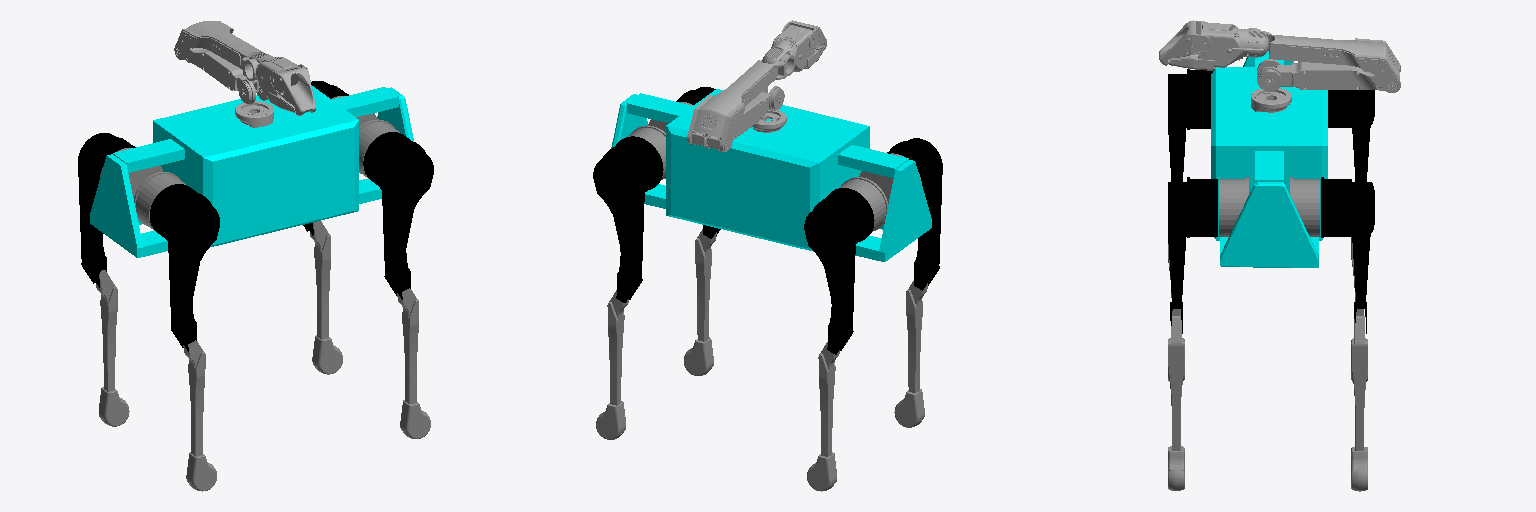
robot.urdf — ghost:
<?xml version="1.0" encoding="utf-8"?>
<robot name="ghost">
  <material name="black">
    <color rgba="0.0 0.0 0.0 1.0"/>
  </material>
  <material name="cyan">
    <color rgba="0.0 1.0 1.0 1.0"/>
  </material>
  <material name="grey">
    <color rgba="0.6 0.6 0.6 1.0"/>
  </material>
  <material name="silver">
    <color rgba="0.7 0.7 0.7 1.0"/>
  </material>

  <link name="trunk">
    <visual>
      <origin rpy="0 0 -1.5708" xyz="0 0 0"/>
      <geometry>
        <mesh filename="ghost/body.obj" scale="1 1 1"/>
      </geometry>
      <material name="cyan"/>
    </visual>
    <!-- <collision>
      <origin rpy="0 0 0" xyz="0 0 0"/>
      <geometry>
        <box size="0.267 0.194 0.114"/>
      </geometry>
    </collision> -->
    <collision>
      <origin rpy="0 0 -1.5708" xyz="0 0 0"/>
      <geometry>
        <mesh filename="ghost/body.obj" scale="1 1 1"/>
      </geometry>
    </collision>
    <inertial>
      <origin rpy="0 0 0" xyz="0 0 0"/>
      <mass value="13.715"/>
      <inertia ixx="0.22" ixy="0" ixz="0" iyy="0.431" iyz="0" izz="0.565"/>
    </inertial>
  </link>

  <!-- FR HIP -->
  <link name="FR_hip">
    <!-- <contact>
      <lateral_friction value="1"/>
    </contact> -->
    <inertial>
      <origin rpy="0 0 0" xyz="0.02 0 0"/>
      <mass value="1.095"/>
      <inertia ixx="0.002" ixy="0" ixz="0" iyy=".002" iyz="0" izz=".001"/>
    </inertial>

    <visual>
      <origin rpy="0 0 0" xyz="0 0 0"/>
      <geometry>
        <mesh filename="ghost/hip.obj" scale="1 1 1"/>
      </geometry>
      <material name="grey"/>
    </visual>

    <collision>
      <origin rpy="0 0 0" xyz="0 0 0"/>
      <geometry>
        <mesh filename="ghost/hip.obj" scale="1 1 1"/>
      </geometry>
    </collision>
  </link>

  <joint name="FR_hip_joint" type="continuous">
    <axis xyz="1 0 0"/>
    <parent link="trunk"/>
    <child link="FR_hip"/>
    <origin rpy="1.57079 0 3.14159" xyz="0.22 -0.06 0.0"/>
    <limit effort="100" velocity="100"/>
    <joint_properties damping=".0" friction=".0"/>
  </joint>

  <!-- FR UPPER LEG -->
  <link name="FR_upper">
    <!-- <contact>
        <lateral_friction value="1"/>
    </contact> -->
    <inertial>
      <origin rpy="0 0 0" xyz="0 -0.04 -0.04"/>
      <mass value="1.527"/>
      <inertia ixx="0.015" ixy="0" ixz="0" iyy="0.007" iyz="0" izz="0.01"/>
    </inertial>
    <visual>
      <origin rpy="0 0 0" xyz="0 0 0"/>
      <geometry>
        <mesh filename="ghost/upper_leg_mirror.obj" scale="1 1 1"/>
      </geometry>
      <material name="black"/>
    </visual>

    <collision>
      <origin rpy="0 0 0" xyz="0 0 0"/>
      <geometry>
        <mesh filename="ghost/upper_leg_mirror.obj" scale="1 1 1"/>
      </geometry>
    </collision>
  </link>

  <joint name="FR_upper_joint" type="continuous">
    <axis xyz="0 1 0"/>
    <parent link="FR_hip"/>
    <child link="FR_upper"/>
    <origin rpy="1.57079 0 1.57079" xyz="-0.0015 0 -0.095"/>
    <limit effort="100" velocity="100"/>
    <joint_properties damping=".0" friction=".0"/>
  </joint>

  <!-- FR LOWER LEG -->
  <link name="FR_lower">
    <!-- <contact>
        <lateral_friction value="1"/>
    </contact> -->
    <inertial>
      <origin rpy="0 0 0" xyz="0 -0.16 -0.02"/>
      <mass value="0.241"/>
      <inertia ixx="0.002" ixy="0" ixz="0" iyy="0.002" iyz="0" izz="0.002"/>
    </inertial>
    <visual>
      <origin rpy="1.57079 1.57079 0" xyz="0 0.0 0"/>
      <geometry>
        <mesh filename="ghost/lower_leg.obj" scale="1 1 1"/>
      </geometry>
      <material name="grey"/>
    </visual>

    <collision>
      <origin rpy="1.57079 1.57079 0" xyz="0 0.0 0"/>
      <geometry>
        <mesh filename="ghost/lower_leg.obj" scale="1 1 1"/>
      </geometry>
    </collision>
  </link>

  <joint name="FR_lower_joint" type="continuous">
    <axis xyz="0 1 0"/>
    <parent link="FR_upper"/>
    <child link="FR_lower"/>
    <origin rpy="0 0 0" xyz="-0.25 -0.005 0.006"/>
    <limit effort="100" velocity="100"/>
    <joint_properties damping=".0" friction=".0"/>
  </joint>

  <!-- FR TOE -->
  <link name="FR_toe">
    <!-- <contact>
      <friction_anchor/>
      <stiffness value="30000.0"/>
      <damping value="1000.0"/>
      <spinning_friction value="0.1"/>
      <lateral_friction value="1.0"/>
    </contact> -->
    <visual>
      <origin rpy="0 0 0" xyz="0 0 0"/>
      <geometry>
        <sphere radius="0.0"/>
      </geometry>
      <material name="black"/>
    </visual>
    <collision>
      <origin rpy="0 0 0" xyz="0 0 0"/>
      <geometry>
        <sphere radius="0.03"/>
      </geometry>
    </collision>
    <inertial>
      <mass value="0.1"/>
      <inertia ixx="0.000025" ixy="0" ixz="0" iyy="0.000025" iyz="0" izz="0.000025"/>
    </inertial>
  </link>

  <joint name="FR_toe_fixed" type="fixed">
    <parent link="FR_lower"/>
    <child link="FR_toe"/>
    <origin xyz="-0.25 0 -0.02"/>
    <dynamics damping="0.0" friction="0.0"/>
  </joint>

  <!-- FL HIP -->
  <link name="FL_hip">
    <!-- <contact>
        <lateral_friction value="1"/>
    </contact> -->
    <inertial>
      <origin rpy="0 0 0" xyz="-.02 0 0"/>
      <mass value="1.095"/>
      <inertia ixx="0.002" ixy="0" ixz="0" iyy="0.002" iyz="0" izz="0.001"/>
    </inertial>
    <visual>
      <origin rpy="0 0 0" xyz="0 0 0"/>
      <geometry>
        <mesh filename="ghost/hip.obj" scale="1 1 1"/>
      </geometry>
      <material name="grey">
      </material>
    </visual>

    <collision>
      <origin rpy="0 0 0" xyz="0 0 0"/>
      <geometry>
        <mesh filename="ghost/hip.obj" scale="1 1 1"/>
      </geometry>
    </collision>
  </link>

  <joint name="FL_hip_joint" type="continuous">
    <axis xyz="1 0 0"/>
    <parent link="trunk"/>
    <child link="FL_hip"/>
    <origin rpy="-1.57079 0 3.14159" xyz="0.22 0.06 0.0"/>
    <limit effort="100" velocity="100"/>
    <joint_properties damping=".0" friction=".0"/>
  </joint>

  <!-- FL UPPER LEG -->
  <link name="FL_upper">
    <!-- <contact>
        <lateral_friction value="1"/>
    </contact> -->
    <inertial>
      <origin rpy="0 0 0" xyz="0 -0.04 -0.04"/>
      <mass value="1.527"/>
      <inertia ixx="0.016" ixy="0" ixz="0" iyy="0.007" iyz="0" izz="0.011"/>
    </inertial>
    <visual>
      <origin rpy="0 0 0" xyz="0 0 0"/>
      <geometry>

        <mesh filename="ghost/upper_leg.obj" scale="1 1 1"/>
      </geometry>
      <material name="black">
      </material>
    </visual>

    <collision>
      <origin rpy="0 0 0" xyz="0 0 0"/>
      <geometry>
        <mesh filename="ghost/upper_leg.obj" scale="1 1 1"/>
      </geometry>
    </collision>
  </link>


  <joint name="FL_upper_joint" type="continuous">
    <axis xyz="0 0 -1"/>
    <parent link="FL_hip"/>
    <child link="FL_upper"/>
    <origin rpy="0 0 3.14159" xyz="-0.0015 0 -0.101"/>
    <limit effort="100" velocity="100"/>
    <joint_properties damping=".0" friction=".0"/>
  </joint>

  <!-- FL LOWER LEG -->
  <link name="FL_lower">
    <!-- <contact>
        <lateral_friction value="1"/>
    </contact> -->
    <inertial>
      <origin rpy="0 0 0" xyz="0 -0.16 -0.02"/>
      <mass value="0.241"/>
      <inertia ixx="0.002" ixy="0" ixz="0" iyy="0.002" iyz="0" izz="0.002"/>
    </inertial>
    <visual>
      <origin rpy="0 0 0" xyz="0 0 0"/>
      <geometry>
        <mesh filename="ghost/lower_leg.obj" scale="1 1 1"/>
      </geometry>
      <material name="grey">
      </material>
    </visual>

    <collision>
      <origin rpy="0 0 0" xyz="0 0 0"/>
      <geometry>
        <mesh filename="ghost/lower_leg.obj" scale="1 1 1"/>
      </geometry>
    </collision>
  </link>

  <joint name="FL_lower_joint" type="continuous">
    <axis xyz="0 0 -1"/>
    <parent link="FL_upper"/>
    <child link="FL_lower"/>
    <origin rpy="0 0 0" xyz="-0.005 -0.25 0.006"/>
    <limit effort="100" velocity="100"/>
    <joint_properties damping=".0" friction=".0"/>
  </joint>

  <!-- FL TOE -->
  <link name="FL_toe">
    <!-- <contact>
      <friction_anchor/>
      <stiffness value="30000.0"/>
      <damping value="1000.0"/>
      <spinning_friction value="0.1"/>
      <lateral_friction value="1.0"/>
    </contact> -->
    <visual>
      <origin rpy="0 0 0" xyz="0 0 0"/>
      <geometry>
        <sphere radius="0.0"/>
      </geometry>
      <material name="black"/>
    </visual>
    <collision>
      <origin rpy="0 0 0" xyz="0 0 0"/>
      <geometry>
        <sphere radius="0.03"/>
      </geometry>
    </collision>
    <inertial>
      <mass value="0.1"/>
      <inertia ixx="0.000025" ixy="0" ixz="0" iyy="0.000025" iyz="0" izz="0.000025"/>
    </inertial>
  </link>

  <joint name="FL_toe_fixed" type="fixed">
    <parent link="FL_lower"/>
    <child link="FL_toe"/>
    <origin xyz="0.02 -0.25 0"/>
    <dynamics damping="0.0" friction="0.0"/>
  </joint>

  <!-- RR HIP -->
  <link name="RR_hip">
    <!-- <contact>
        <lateral_friction value="1"/>
    </contact> -->
    <inertial>
      <origin rpy="0 0 0" xyz="0.02 0 0"/>
      <mass value="1.095"/>
      <inertia ixx="0.002" ixy="0" ixz="0" iyy="0.002" iyz="0" izz="0.001"/>
    </inertial>

    <visual>
      <origin rpy="0 0 0" xyz="0 0 0"/>
      <geometry>
        <mesh filename="ghost/hip.obj" scale="1 1 1"/>
      </geometry>
      <material name="grey"/>
    </visual>

    <collision>
      <origin rpy="0 0 0" xyz="0 0 0"/>
      <geometry>
        <mesh filename="ghost/hip.obj" scale="1 1 1"/>
      </geometry>
    </collision>
  </link>

  <joint name="RR_hip_joint" type="continuous">
    <axis xyz="1 0 0"/>
    <parent link="trunk"/>
    <child link="RR_hip"/>
    <origin rpy="1.57079 0 3.14159" xyz="-0.22 -0.06 0.0"/>
    <limit effort="100" velocity="100"/>
    <joint_properties damping=".0" friction=".0"/>
  </joint>

  <!-- RR UPPER LEG -->
  <link name="RR_upper">
    <!-- <contact>
        <lateral_friction value="1"/>
    </contact> -->
    <inertial>
      <origin rpy="0 0 0" xyz="0 -0.04 -0.04"/>
      <mass value="1.527"/>
      <inertia ixx="0.016" ixy="0" ixz="0" iyy="0.007" iyz="0" izz="0.011"/>
    </inertial>
    <visual>
      <origin rpy="0 0 0" xyz="0 0 0"/>
      <geometry>
        <mesh filename="ghost/upper_leg_mirror.obj" scale="1 1 1"/>
      </geometry>
      <material name="black"/>
    </visual>

    <collision>
      <origin rpy="0 0 0" xyz="0 0 0"/>
      <geometry>
        <mesh filename="ghost/upper_leg_mirror.obj" scale="1 1 1"/>
      </geometry>
    </collision>
  </link>

  <joint name="RR_upper_joint" type="continuous">
    <axis xyz="0 1 0"/>
    <parent link="RR_hip"/>
    <child link="RR_upper"/>
    <origin rpy="1.57079 0 1.57079" xyz="-0.0015 0 -0.095"/>
    <limit effort="100" velocity="100"/>
    <joint_properties damping=".0" friction=".0"/>
  </joint>

  <!-- RR LOWER LEG -->
  <link name="RR_lower">
    <!-- <contact>
        <lateral_friction value="1"/>
    </contact> -->
    <inertial>
      <origin rpy="0 0 0" xyz="0 -0.16 -0.02"/>
      <mass value="0.241"/>
      <inertia ixx="0.002" ixy="0" ixz="0" iyy="0.002" iyz="0" izz="0.002"/>
    </inertial>
    <visual>
      <origin rpy="1.57079 1.57079 0" xyz="0 0 0"/>
      <geometry>
        <mesh filename="ghost/lower_leg.obj" scale="1 1 1"/>
      </geometry>
      <material name="grey"/>
    </visual>

    <collision>
      <origin rpy="1.57079 1.57079 0" xyz="0 0 0"/>
      <geometry>
        <mesh filename="ghost/lower_leg.obj" scale="1 1 1"/>
      </geometry>
    </collision>
  </link>

  <joint name="RR_lower_joint" type="continuous">
    <axis xyz="0 1 0"/>
    <parent link="RR_upper"/>
    <child link="RR_lower"/>
    <origin rpy="0 0 0" xyz="-0.25 -0.005 0.006"/>
    <limit effort="100" lower="-2.69653369433" upper="-0.916297857297" velocity="100"/>
    <joint_properties damping=".0" friction=".0"/>
  </joint>

  <!-- RR TOE -->
  <link name="RR_toe">
    <!-- <contact>
      <friction_anchor/>
      <stiffness value="30000.0"/>
      <damping value="1000.0"/>
      <spinning_friction value="0.1"/>
      <lateral_friction value="1.0"/>
    </contact> -->
    <visual>
      <origin rpy="0 0 0" xyz="0 0 0"/>
      <geometry>
        <sphere radius="0.0"/>
      </geometry>
      <material name="black"/>
    </visual>
    <collision>
      <origin rpy="0 0 0" xyz="0 0 0"/>
      <geometry>
        <sphere radius="0.03"/>
      </geometry>
    </collision>
    <inertial>
      <mass value="0.1"/>
      <inertia ixx="0.000025" ixy="0" ixz="0" iyy="0.000025" iyz="0" izz="0.000025"/>
    </inertial>
  </link>

  <joint name="RR_toe_fixed" type="fixed">
    <parent link="RR_lower"/>
    <child link="RR_toe"/>
    <origin xyz="-0.25 0 -0.02"/>
    <dynamics damping="0.0" friction="0.0"/>
  </joint>

  <!-- RL HIP -->
  <link name="RL_hip">
    <!-- <contact>
        <lateral_friction value="1"/>
    </contact> -->
    <inertial>
      <origin rpy="0 0 0" xyz="-.02 0 0"/>
      <mass value="1.095"/>
      <inertia ixx="0.002" ixy="0" ixz="0" iyy="0.002" iyz="0" izz="0.001"/>
    </inertial>
    <visual>
      <origin rpy="0 0 0" xyz="0 0 0"/>
      <geometry>
        <mesh filename="ghost/hip.obj" scale="1 1 1"/>
      </geometry>
      <material name="grey"/>
    </visual>

    <collision>
      <origin rpy="0 0 0" xyz="0 0 0"/>
      <geometry>
        <mesh filename="ghost/hip.obj" scale="1 1 1"/>
      </geometry>
    </collision>
  </link>

  <joint name="RL_hip_joint" type="continuous">
    <axis xyz="1 0 0"/>
    <parent link="trunk"/>
    <child link="RL_hip"/>
    <origin rpy="-1.57079 0 3.14159" xyz="-0.22 0.06 0.0"/>
    <limit effort="100" velocity="100"/>
    <joint_properties damping=".0" friction=".0"/>
  </joint>

  <!-- RL UPPER LEG -->
  <link name="RL_upper">
    <!-- <contact>
        <lateral_friction value="1"/>
    </contact> -->
    <inertial>
      <origin rpy="0 0 0" xyz="0 -0.04 -0.04"/>
      <mass value="1.527"/>
      <inertia ixx="0.016" ixy="0" ixz="0" iyy="0.007" iyz="0" izz="0.011"/>
    </inertial>
    <visual>
      <origin rpy="0 0 0" xyz="0 0 0"/>
      <geometry>
        <mesh filename="ghost/upper_leg.obj" scale="1 1 1"/>
      </geometry>
      <material name="black"/>
    </visual>

    <collision>
      <origin rpy="0 0 0" xyz="0 0 0"/>
      <geometry>
        <mesh filename="ghost/upper_leg.obj" scale="1 1 1"/>
      </geometry>
    </collision>
  </link>

  <joint name="RL_upper_joint" type="continuous">
    <axis xyz="0 0 -1"/>
    <parent link="RL_hip"/>
    <child link="RL_upper"/>
    <origin rpy="0 0 3.14159" xyz="-0.0015 0 -0.101"/>
    <limit effort="100" velocity="100"/>
    <joint_properties damping=".0" friction=".0"/>
  </joint>

  <!-- RL LOWER LEG -->
  <link name="RL_lower">
    <!-- <contact>
        <lateral_friction value="1"/>
    </contact> -->
    <inertial>
      <origin rpy="0 0 0" xyz="0 -0.16 -0.02"/>
      <mass value="0.241"/>
      <inertia ixx="0.002" ixy="0" ixz="0" iyy="0.002" iyz="0" izz="0.002"/>
    </inertial>
    <visual>
      <origin rpy="0 0 0" xyz="0 0 0"/>
      <geometry>
        <mesh filename="ghost/lower_leg.obj" scale="1 1 1"/>
      </geometry>
      <material name="grey"/>
    </visual>

    <collision>
      <origin rpy="0 0 0" xyz="0 0 0"/>
      <geometry>
        <mesh filename="ghost/lower_leg.obj" scale="1 1 1"/>
      </geometry>
    </collision>
  </link>

  <joint name="RL_lower_joint" type="continuous">
    <axis xyz="0 0 -1"/>
    <parent link="RL_upper"/>
    <child link="RL_lower"/>
    <origin rpy="0 0 0" xyz="-0.005 -0.25 0.006"/>
    <limit effort="100" velocity="100"/>
    <joint_properties damping=".0" friction=".0"/>
  </joint>

  <!-- RL TOE -->
  <link name="RL_toe">
    <!-- <contact>
      <friction_anchor/>
      <stiffness value="30000.0"/>
      <damping value="1000.0"/>
      <spinning_friction value="0.1"/>
      <lateral_friction value="1.0"/>
    </contact> -->
    <visual>
      <origin rpy="0 0 0" xyz="0 0 0"/>
      <geometry>
        <sphere radius="0.0"/>
      </geometry>
      <material name="black"/>
    </visual>
    <collision>
      <origin rpy="0 0 0" xyz="0 0 0"/>
      <geometry>
        <sphere radius="0.03"/>
      </geometry>
    </collision>
    <inertial>
      <mass value="0.1"/>
      <inertia ixx="0.000025" ixy="0" ixz="0" iyy="0.000025" iyz="0" izz="0.000025"/>
    </inertial>
  </link>

  <joint name="RL_toe_fixed" type="fixed">
    <parent link="RL_lower"/>
    <child link="RL_toe"/>
    <origin xyz="0.02 -0.25 0"/>
    <dynamics damping="0.0" friction="0.0"/>
  </joint>

  <!-- Arm -->
  <link name="arm_base_link">
    <inertial>
      <origin rpy="0 0 0" xyz="0 0 0"/>
      <mass value="0.28897197894505794"/>
      <inertia ixx="0.000561" ixy="-0.0" ixz="-0.0" iyy="0.000389" iyz="0.0" izz="0.000553"/>
    </inertial>
    <visual>
      <origin rpy="0 0 0" xyz="0 0 0"/>
      <geometry>
        <mesh filename="spot_arm/base_link.stl" />
      </geometry>
      <material name="silver"/>
    </visual>
    <collision>
      <origin rpy="0 0 0" xyz="0 0 0"/>
      <geometry>
        <mesh filename="spot_arm/base_link.stl" />
      </geometry>
    </collision>
  </link>

  <joint name="arm_base" type="fixed">
    <origin rpy="0 0 0" xyz="0 0 0.1"/>
    <parent link="trunk"/>
    <child link="arm_base_link"/>
  </joint>

  <link name="arm_link_1">
    <inertial>
      <origin rpy="0 0 0" xyz="0 0 0"/>
      <mass value="0.6510136315044379"/>
      <inertia ixx="0.000498" ixy="0.0" ixz="-3e-06" iyy="0.000484" iyz="-0.0" izz="0.000407"/>
    </inertial>
    <visual>
      <origin rpy="0 0 0" xyz="0 0 0"/>
      <geometry>
        <mesh filename="spot_arm/bottom_v1_1.stl" />
      </geometry>
      <material name="silver"/>
    </visual>
    <collision>
      <origin rpy="0 0 0" xyz="0 0 0"/>
      <geometry>
        <mesh filename="spot_arm/bottom_v1_1.stl" />
      </geometry>
    </collision>
  </link>

  <joint name="motor_arm_0" type="continuous">
    <origin rpy="0 0 0" xyz="0.0 0.002 0.046"/>
    <parent link="arm_base_link"/>
    <child link="arm_link_1"/>
    <axis xyz="0.0 0.0 -1.0"/>
  </joint>

  <link name="arm_link_2">
    <inertial>
      <origin rpy="0 0 0" xyz="0 0 0"/>
      <mass value="1.935292940405524"/>
      <inertia ixx="0.001224" ixy="-0.0" ixz="-0.0" iyy="0.001136" iyz="-4.3e-05" izz="0.00072"/>
    </inertial>
    <visual>
      <origin rpy="0 0 0" xyz="0 0 0"/>
      <geometry>
        <mesh filename="spot_arm/Arm_1_v1_1.stl" />
      </geometry>
      <material name="silver"/>
    </visual>
    <collision>
      <origin rpy="0 0 0" xyz="0 0 0"/>
      <geometry>
        <mesh filename="spot_arm/Arm_1_v1_1.stl" />
      </geometry>
    </collision>
  </link>

  <joint name="motor_arm_1" type="continuous">
    <origin rpy="0 0 0" xyz="0.0 0.0 0.0"/>
    <parent link="arm_link_1"/>
    <child link="arm_link_2"/>
    <axis xyz="1.0 -0.0 -0.0"/>
  </joint>

  <link name="arm_link_3">
    <inertial>
      <origin rpy="0 0 0" xyz="0 0 0"/>
      <mass value="1.935292940405524"/>
      <inertia ixx="0.001224" ixy="-0.0" ixz="-0.0" iyy="0.001136" iyz="-4.3e-05" izz="0.00072"/>
    </inertial>
    <visual>
      <origin rpy="0 0 0" xyz="0 0 0"/>
      <geometry>
        <mesh filename="spot_arm/Arm_2_v1_1.stl" />
      </geometry>
      <material name="silver"/>
    </visual>
    <collision>
      <origin rpy="0 0 0" xyz="0 0 0"/>
      <geometry>
        <mesh filename="spot_arm/Arm_2_v1_1.stl" />
      </geometry>
    </collision>
  </link>

  <joint name="motor_arm_2" type="continuous">
    <origin rpy="0 0 0" xyz="-0.0015 0.21 0"/>
    <parent link="arm_link_2"/>
    <child link="arm_link_3"/>
    <axis xyz="-1.0 0.0 -0.0"/>
  </joint>

  <link name="arm_link_4">
    <inertial>
      <origin rpy="0 0 0" xyz="0 0 0"/>
      <mass value="1.935292940405524"/>
      <inertia ixx="0.001224" ixy="-0.0" ixz="-0.0" iyy="0.001136" iyz="-4.3e-05" izz="0.00072"/>
    </inertial>
    <visual>
      <origin rpy="0 0 0" xyz="0 0 0"/>
      <geometry>
        <mesh filename="spot_arm/neck_v1_1.stl" />
      </geometry>
      <material name="silver"/>
    </visual>
    <collision>
      <origin rpy="0 0 0" xyz="0 0 0"/>
      <geometry>
        <mesh filename="spot_arm/neck_v1_1.stl" />
      </geometry>
    </collision>
  </link>

  <joint name="motor_arm_3" type="continuous">
    <origin rpy="0 0 0" xyz="0 -0.24 0.06"/>
    <parent link="arm_link_3"/>
    <child link="arm_link_4"/>
    <axis xyz="1.0 0.0 0.0"/>
  </joint>

  <link name="arm_link_5">
    <inertial>
      <origin rpy="0 0 0" xyz="0 0 0"/>
      <mass value="0.28897197894505794"/>
      <inertia ixx="0.000561" ixy="-0.0" ixz="-0.0" iyy="0.000389" iyz="0.0" izz="0.000553"/>
    </inertial>
    <visual>
      <origin rpy="0 0 0" xyz="0 0 0"/>
      <geometry>
        <mesh filename="spot_arm/head_v1_1.stl" />
      </geometry>
      <material name="silver"/>
    </visual>
    <collision>
      <origin rpy="0 0 0" xyz="0 0 0"/>
      <geometry>
        <mesh filename="spot_arm/head_v1_1.stl" />
      </geometry>
    </collision>
  </link>

  <joint name="motor_arm_4" type="continuous">
    <origin rpy="0 0 0" xyz="0 -0.045 0"/>
    <parent link="arm_link_4"/>
    <child link="arm_link_5"/>
    <axis xyz="-0.0 -1.0 0.0"/>
  </joint>

  <link name="arm_gripper">
    <inertial>
      <origin rpy="0 0 0" xyz="0 0 0"/>
      <mass value="1.5302388632599126"/>
      <inertia ixx="4.6e-05" ixy="0.0" ixz="0.0" iyy="5e-05" iyz="0.0" izz="5.5e-05"/>
    </inertial>
    <visual>
      <origin rpy="0 0 0" xyz="0 0 0"/>
      <geometry>
        <mesh filename="spot_arm/gripper_v1_1.stl" />
      </geometry>
      <material name="silver"/>
    </visual>
    <collision>
      <origin rpy="0 0 0" xyz="0 0 0"/>
      <geometry>
        <mesh filename="spot_arm/gripper_v1_1.stl" />
      </geometry>
    </collision>
  </link>

  <joint name="motor_arm_5" type="continuous">
    <origin rpy="0 0 0" xyz="0.002 -0.04 0.015"/>
    <parent link="arm_link_5"/>
    <child link="arm_gripper"/>
    <axis xyz="-1.0 0.0 -0.0"/>
  </joint>
</robot>

--- What the picture shows (computed from the rendered views, not written in the file) ---
The picture shows the robot from 3 angles, left to right: view 1: azimuth 30°, elevation 25°; view 2: azimuth 150°, elevation 25°; view 3: azimuth 270°, elevation 25°; orthographic projection.
Robot: ghost — 24 links, 23 joints (18 continuous, 5 fixed); root link trunk; default pose: all joints at 0.
Links seen in each view (by area): view 1: trunk, FR_upper, RR_upper, RL_upper, RL_lower, FL_lower, RR_lower, FR_lower, arm_link_3, arm_link_2, arm_gripper, RR_hip (+3 smaller); view 2: trunk, RL_upper, FL_upper, arm_link_3, RR_upper, RR_lower, FR_lower, FL_lower, RL_lower, arm_link_2, arm_link_5, RL_hip (+2 smaller); view 3: trunk, FL_upper, FR_upper, arm_link_3, RR_upper, arm_link_2, RL_upper, FL_lower, FR_lower, arm_link_5, FR_hip, FL_hip (+3 smaller).
Boxes of the visible links, x1,y1,x2,y2 form: trunk: [90, 86, 413, 257]; FR_upper: [363, 132, 433, 299]; RR_upper: [150, 184, 219, 351]; RL_upper: [78, 133, 135, 287]; RL_lower: [96, 270, 129, 426]; FL_lower: [310, 221, 342, 374]; RR_lower: [183, 340, 216, 491]; FR_lower: [397, 288, 430, 438]; arm_link_3: [174, 21, 263, 80]; arm_link_2: [185, 48, 267, 103]; arm_gripper: [270, 64, 315, 115]; RR_hip: [134, 172, 187, 230]; trunk: [611, 89, 931, 261]; RL_upper: [804, 188, 874, 354]; FL_upper: [593, 136, 663, 302]; arm_link_3: [687, 54, 794, 151]; RR_upper: [887, 138, 942, 290]; RR_lower: [894, 281, 927, 427]; FR_lower: [684, 229, 716, 375]; FL_lower: [596, 290, 628, 439]; RL_lower: [807, 342, 839, 491]; arm_link_2: [692, 86, 784, 151]; arm_link_5: [771, 25, 824, 71]; RL_hip: [838, 177, 887, 231]; trunk: [1211, 51, 1327, 267]; FL_upper: [1321, 177, 1374, 333]; FR_upper: [1168, 177, 1217, 333]; arm_link_3: [1247, 28, 1400, 92]; RR_upper: [1168, 69, 1213, 181]; arm_link_2: [1257, 59, 1399, 91]; RL_upper: [1328, 90, 1374, 181]; FL_lower: [1351, 316, 1367, 491]; FR_lower: [1168, 316, 1184, 490]; arm_link_5: [1168, 22, 1243, 70]; FR_hip: [1219, 177, 1248, 236]; FL_hip: [1290, 177, 1319, 236].
Size in the robot's own frame: 0.5869 by 0.4158 by 0.7666 metres.
19 mesh visuals loaded from 12 distinct referenced files (6 binary STL, 5 OBJ); not drawn: 1 (reference not matched to a file when rendering).